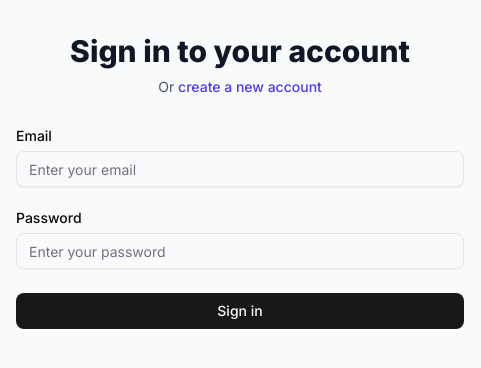
Test: LoginForm › handles login error
Type "test@example.com" into the field labelled "Email".
click(240, 169); type("test@example.com")  # box [16,151,464,187]
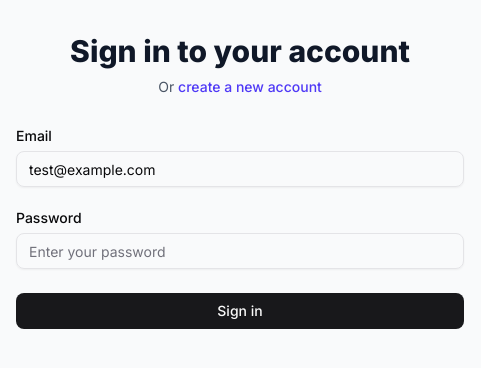
Type "wrongpassword" into the password field labelled "Password".
click(240, 251); type("wrongpassword")  # box [16,233,464,269]
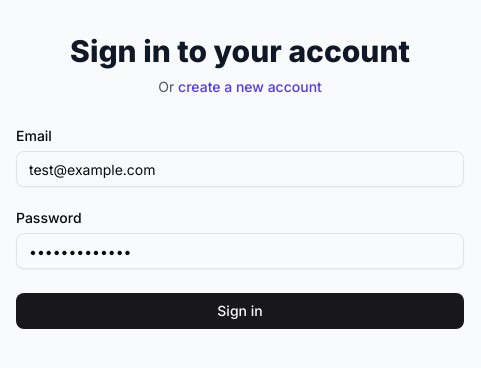
Click the button "Sign in".
click(240, 311)  # box [16,293,464,329]
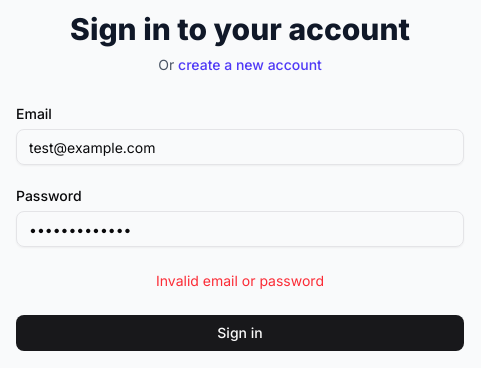
Expected: the text "Invalid email or password" is shown, [156,272,324,289]
